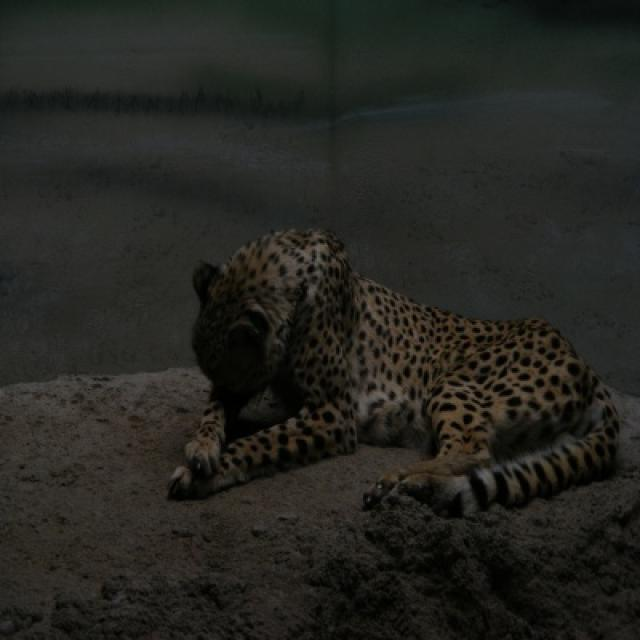Cheetah: (168, 227, 622, 520)
